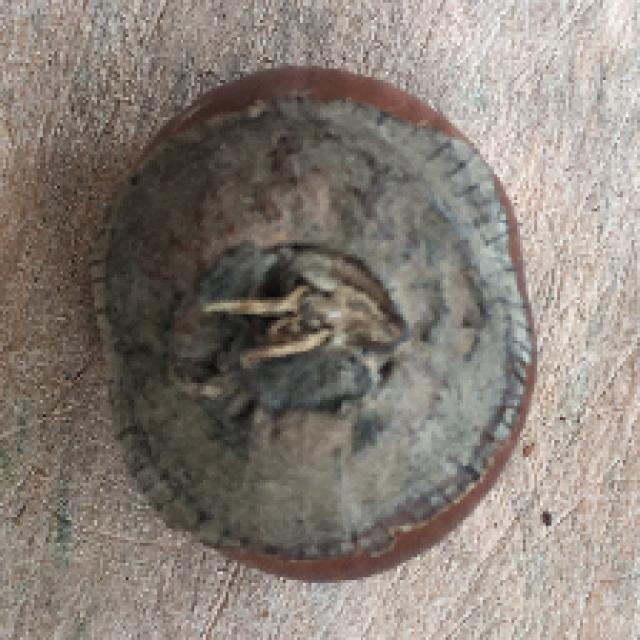damagedHazelnut: (93, 57, 571, 599)
